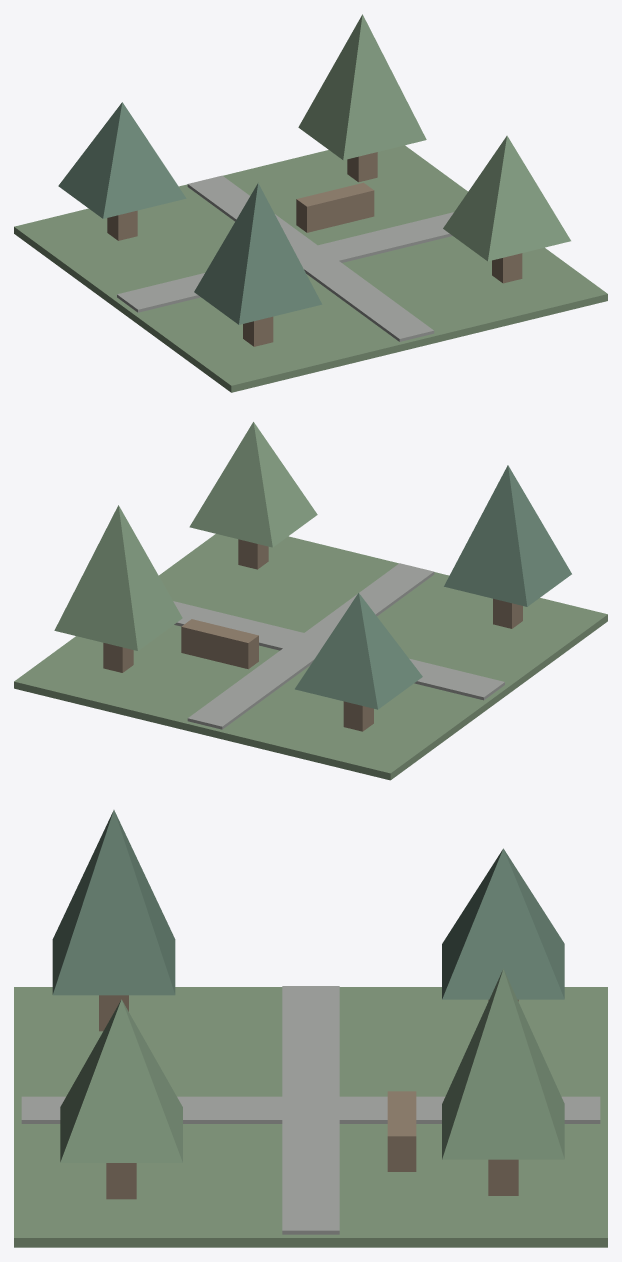
File: park_2x2.glb
3 renders of one model, top to bottom at view 1: azimuth 30°, elevation 25°; view 2: azimuth 150°, elevation 25°; view 3: azimuth 270°, elevation 25°, orthographic. The views are drawn at different scales.
Visible parts, largest first — view 1: park_2x2; view 2: park_2x2; view 3: park_2x2.
Boxes of the visible parts, x1=… form: park_2x2: x1=14, y1=14, x2=607, y2=392; park_2x2: x1=14, y1=422, x2=607, y2=780; park_2x2: x1=14, y1=810, x2=607, y2=1247.
Bounding box in the file's own units: 3.92 × 1.71 × 3.92.
